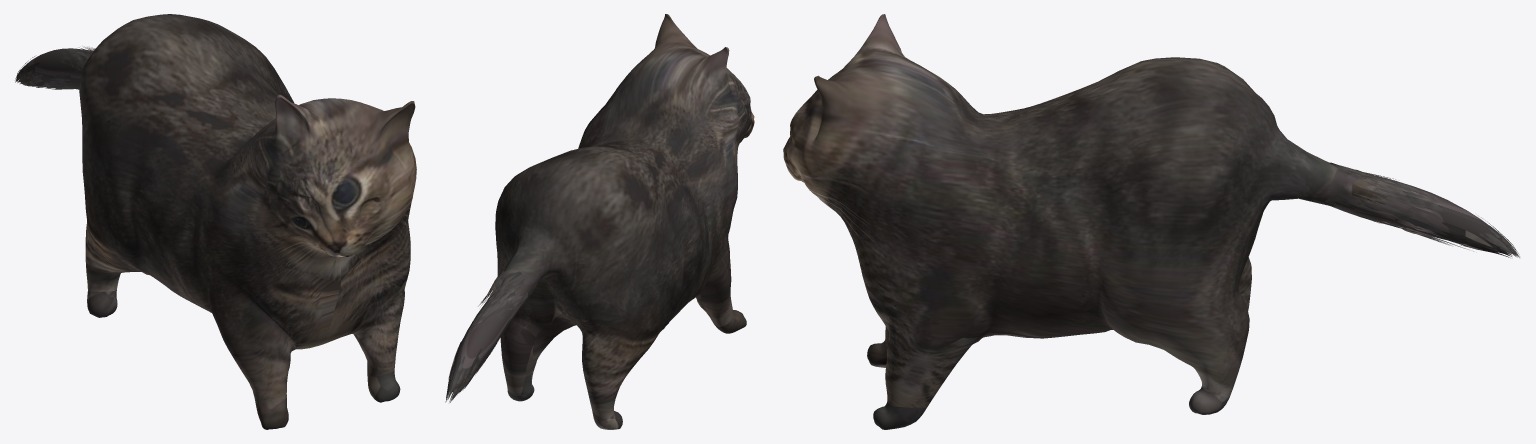
File: oiiaioooooiai.obj
3 views of the same model, side by side, from view 1: azimuth 30°, elevation 25°; view 2: azimuth 150°, elevation 25°; view 3: azimuth 270°, elevation 25° (orthographic). The views are drawn at different scales.
Visible parts, largest first — view 1: 0; view 2: 0; view 3: 0.
Part boxes in pixels (x1=…): 0: x1=15, y1=14, x2=416, y2=429; 0: x1=445, y1=14, x2=754, y2=429; 0: x1=783, y1=14, x2=1519, y2=429.
Bounding box in the file's own units: 0.2392 × 0.3866 × 0.7242.
